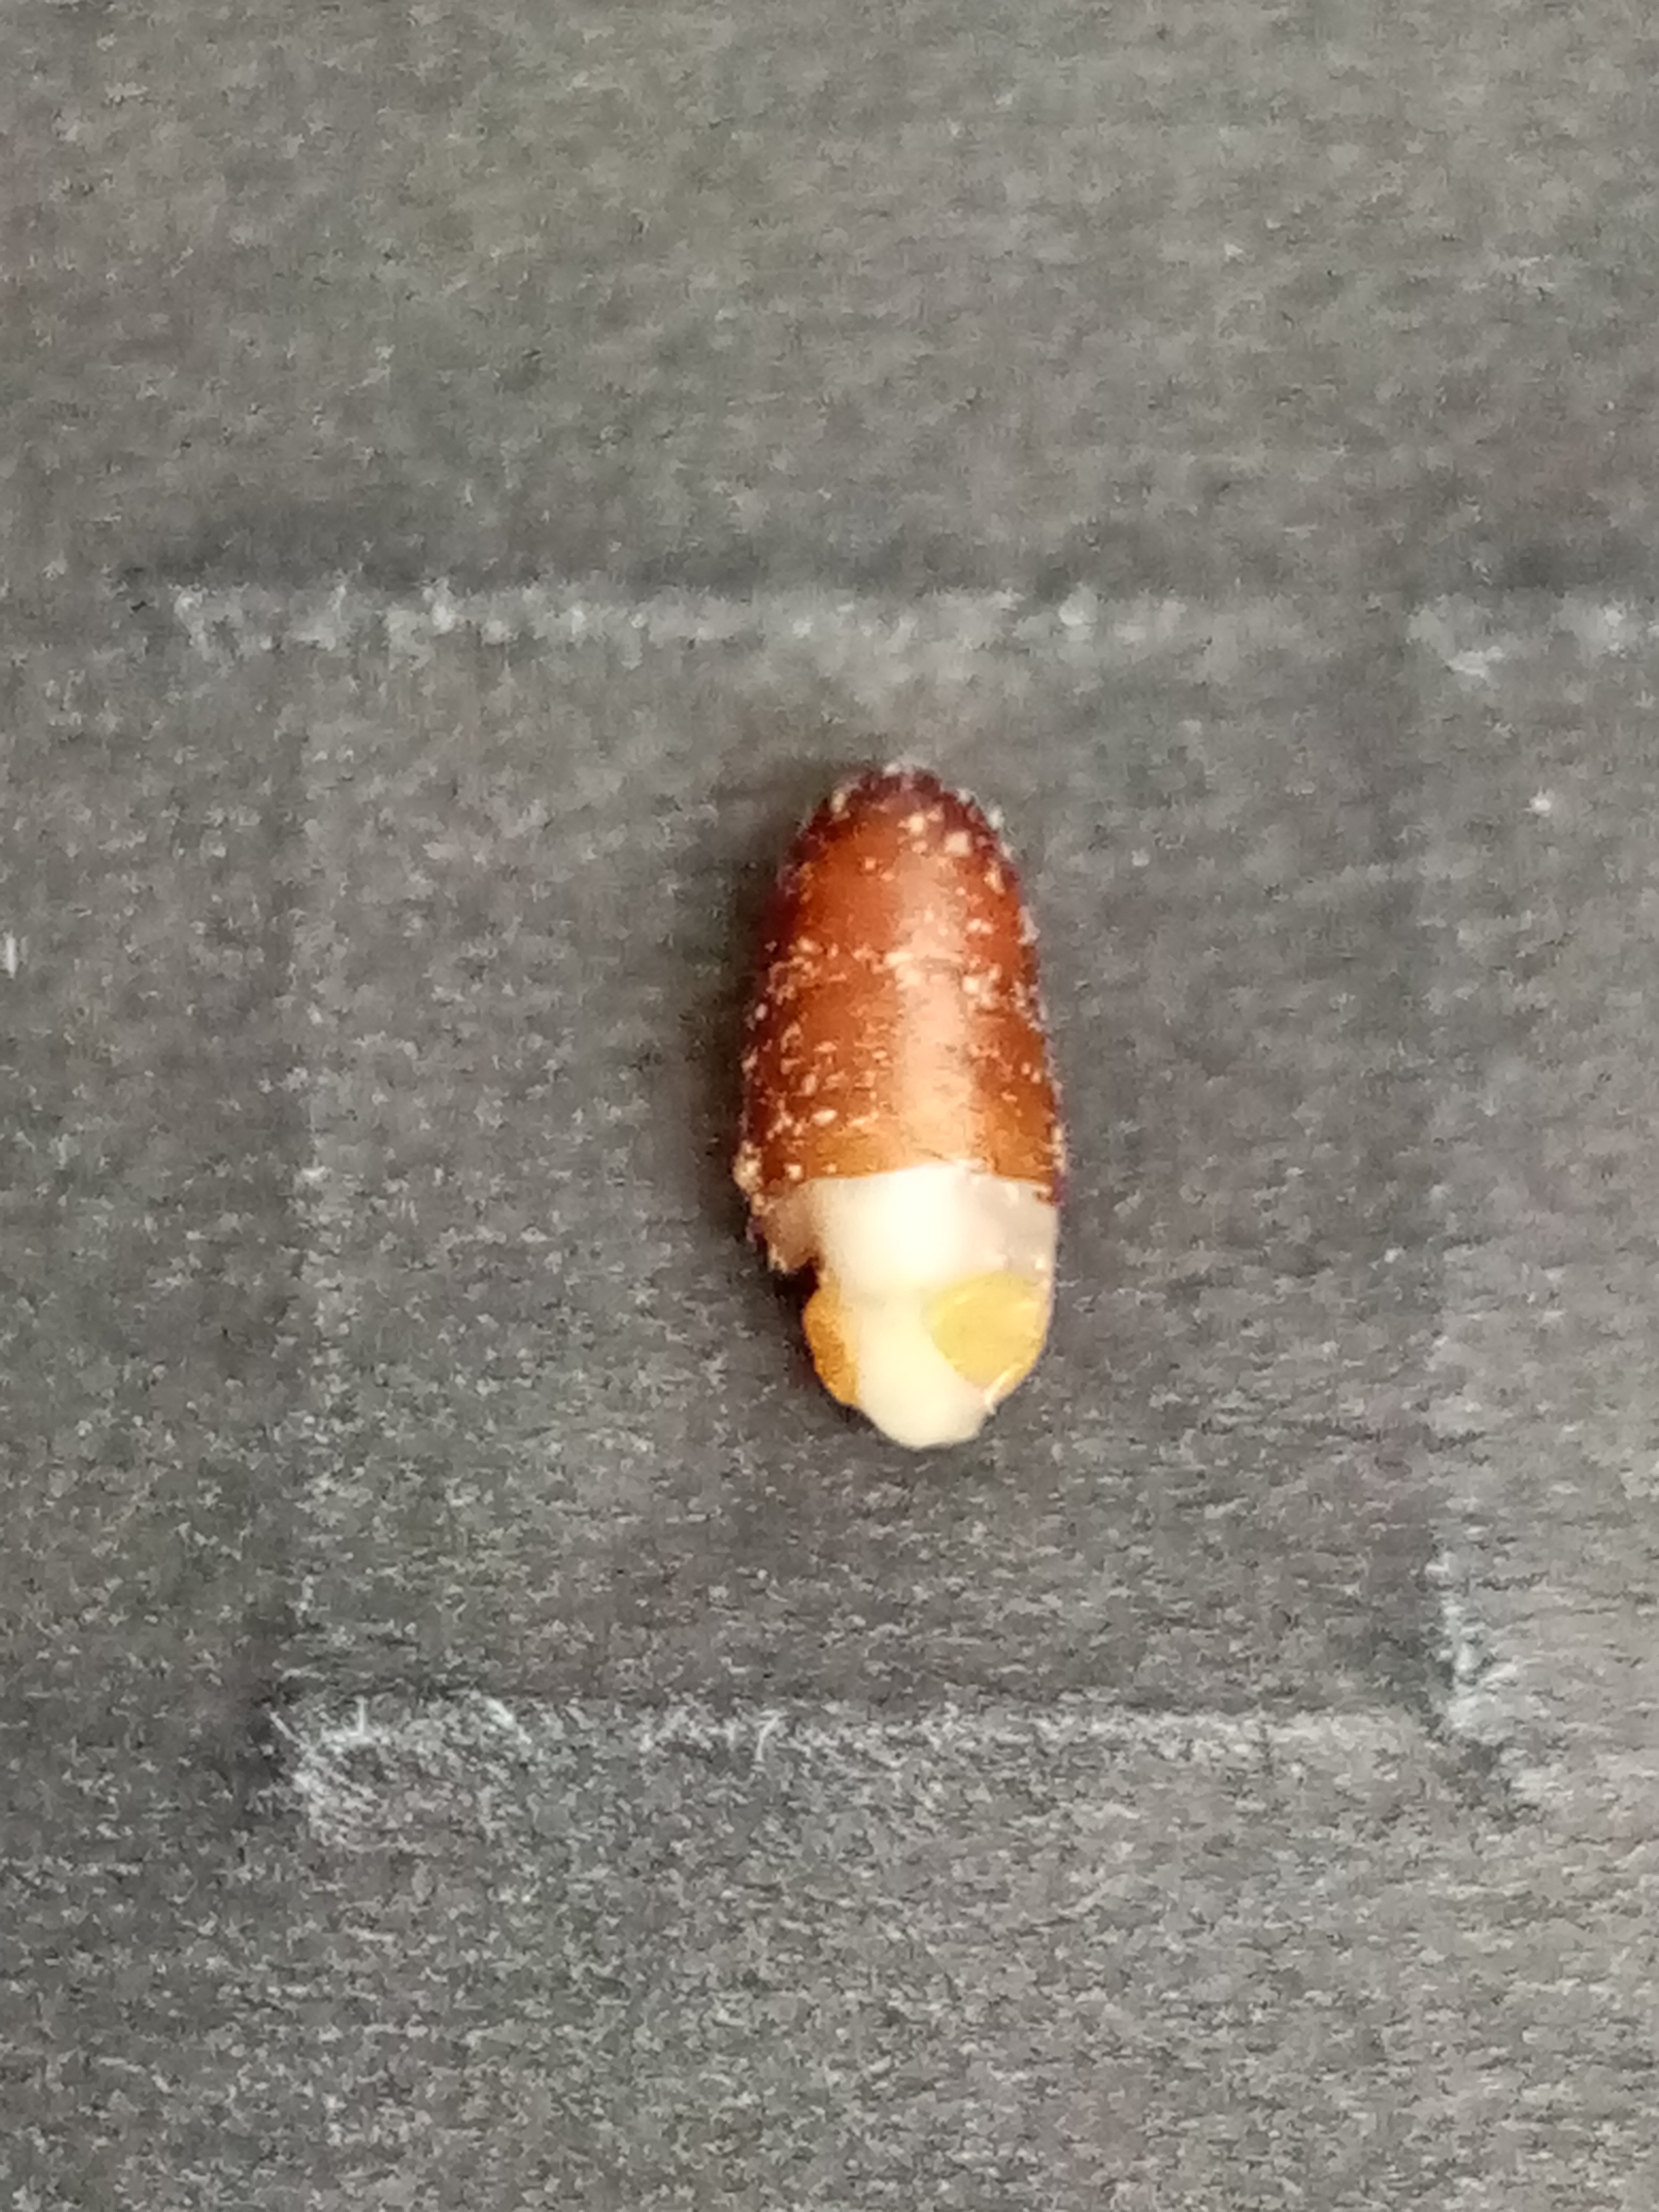pupa: (795, 1240, 1058, 1454)
